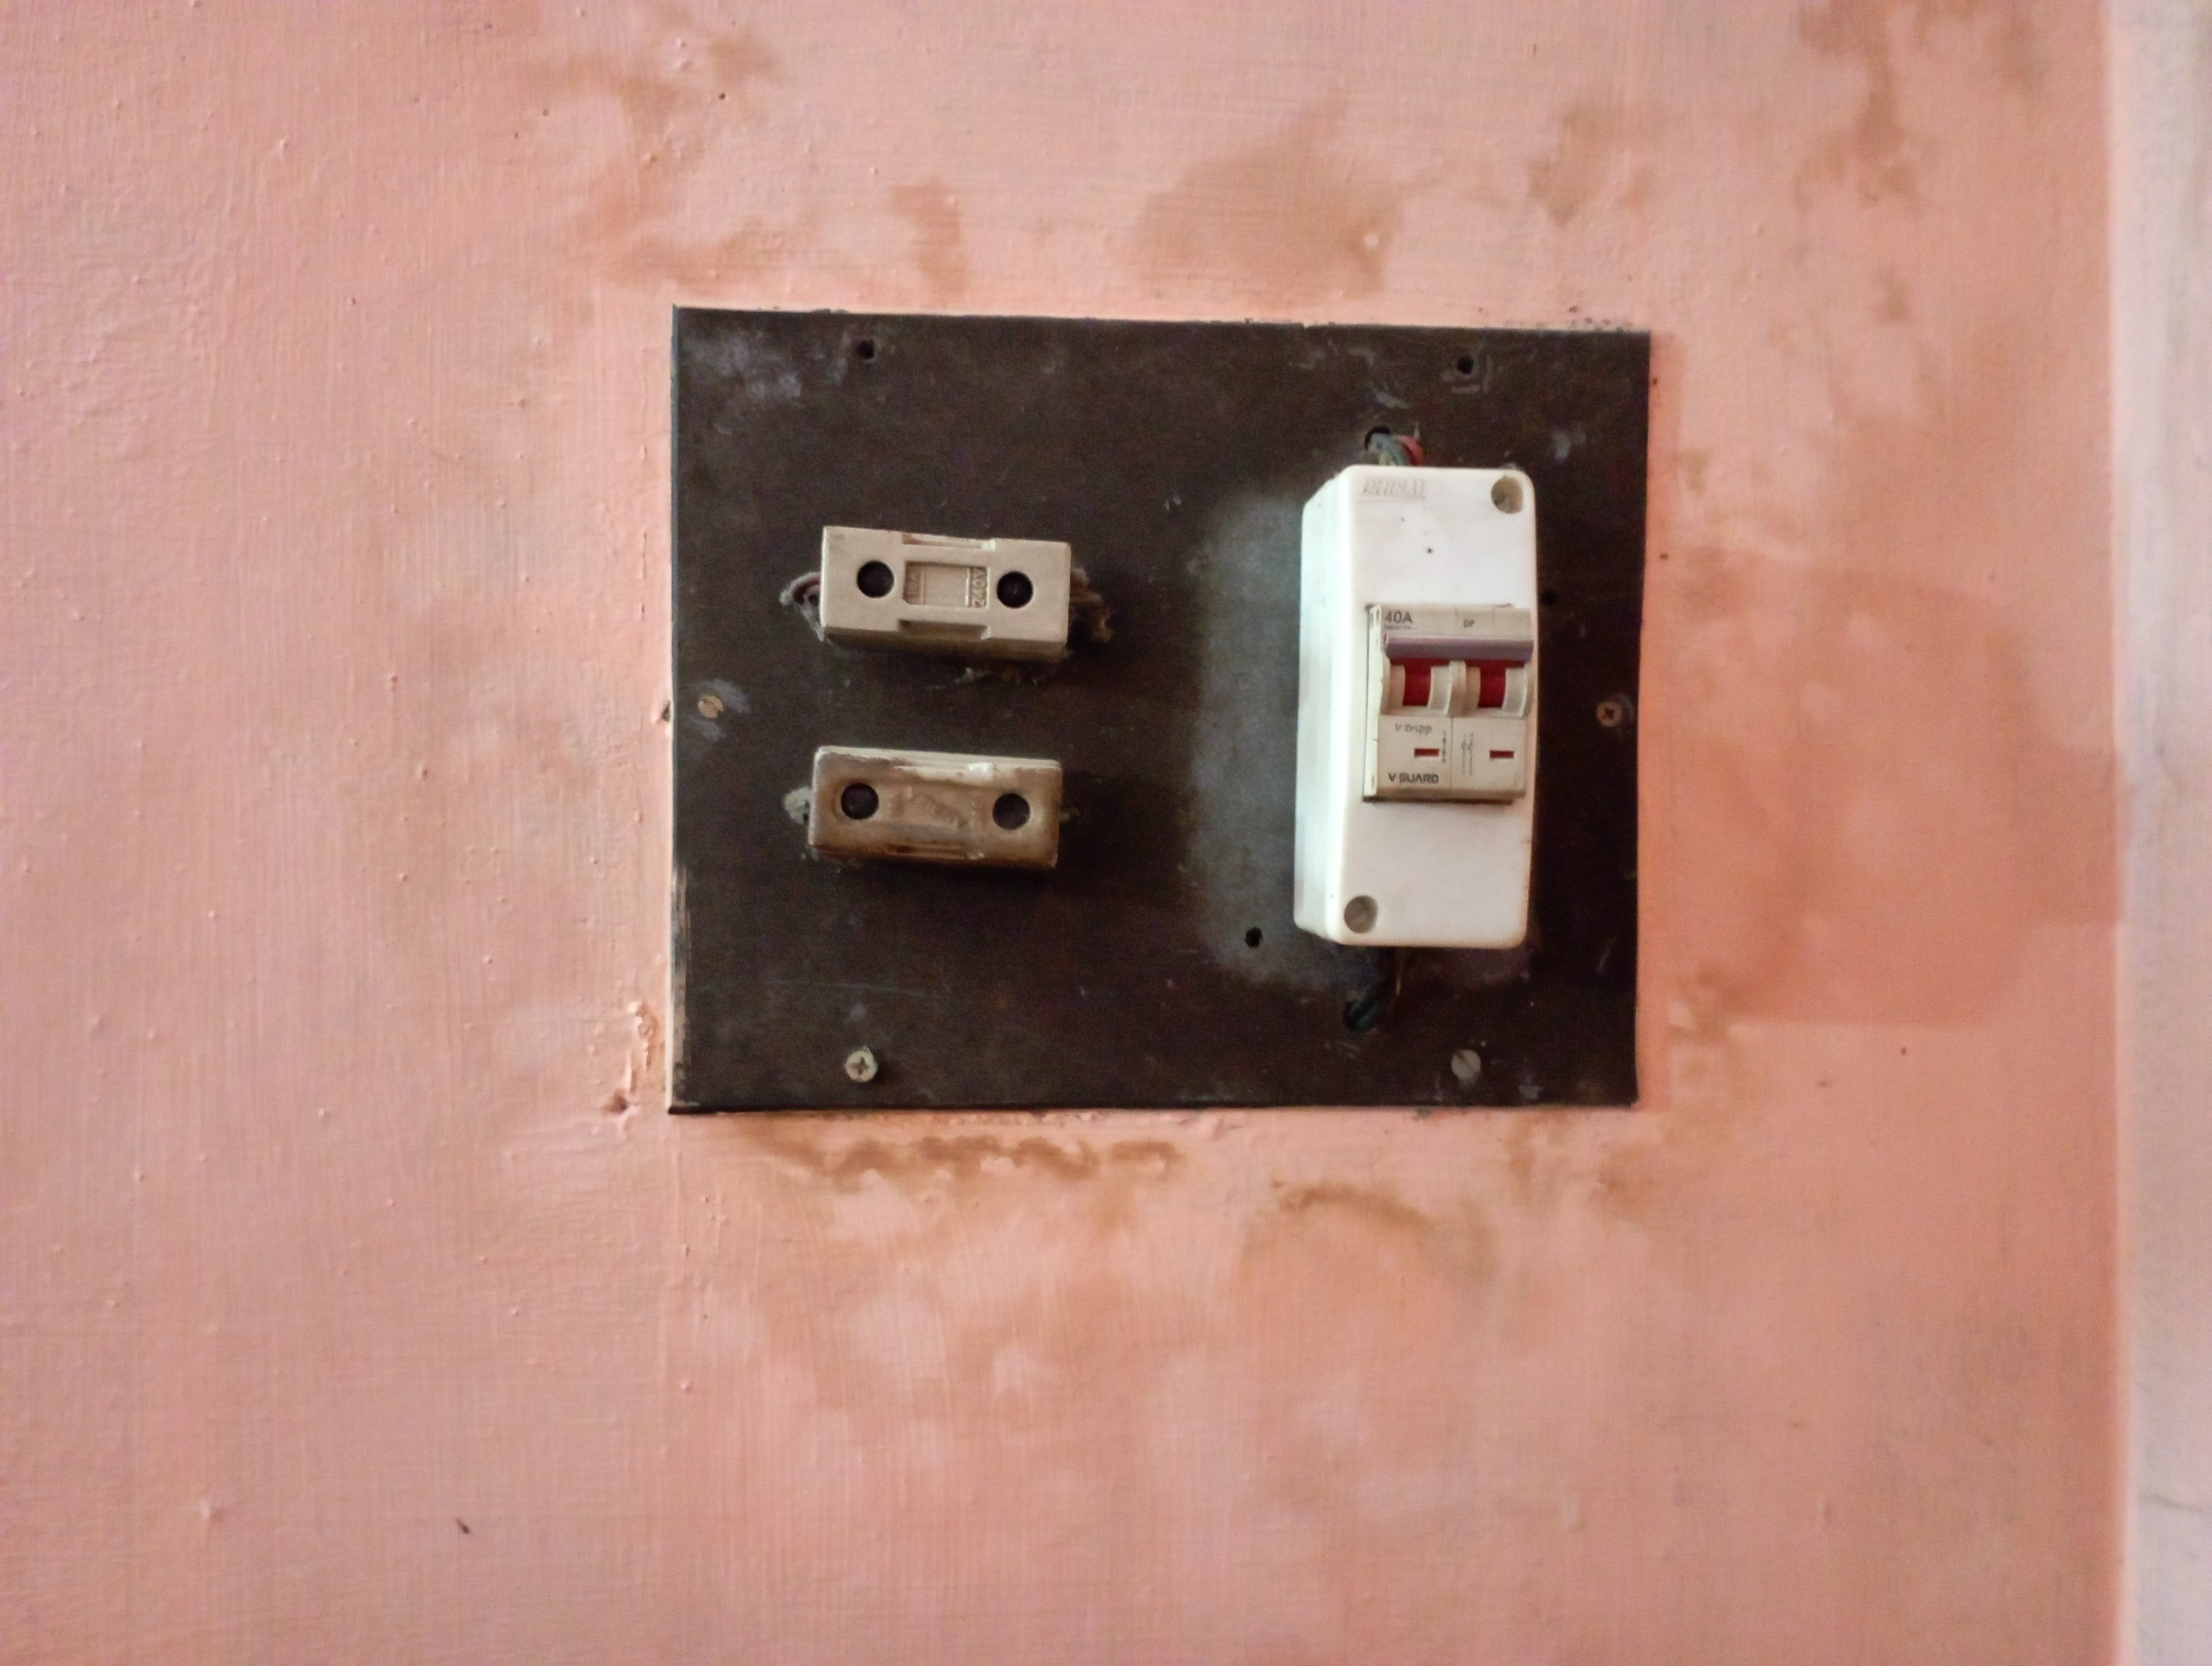ciruit_breaker: (1289, 441, 1555, 964)
fuse: (773, 731, 1088, 886), (796, 507, 1102, 658)
